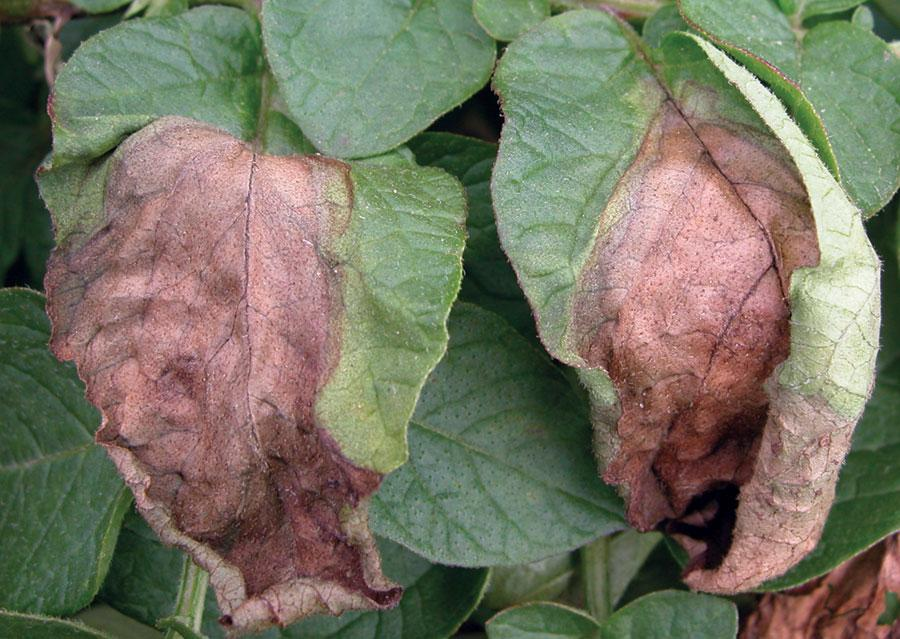Potato leaf: (38, 16, 474, 632), (493, 1, 889, 604)
